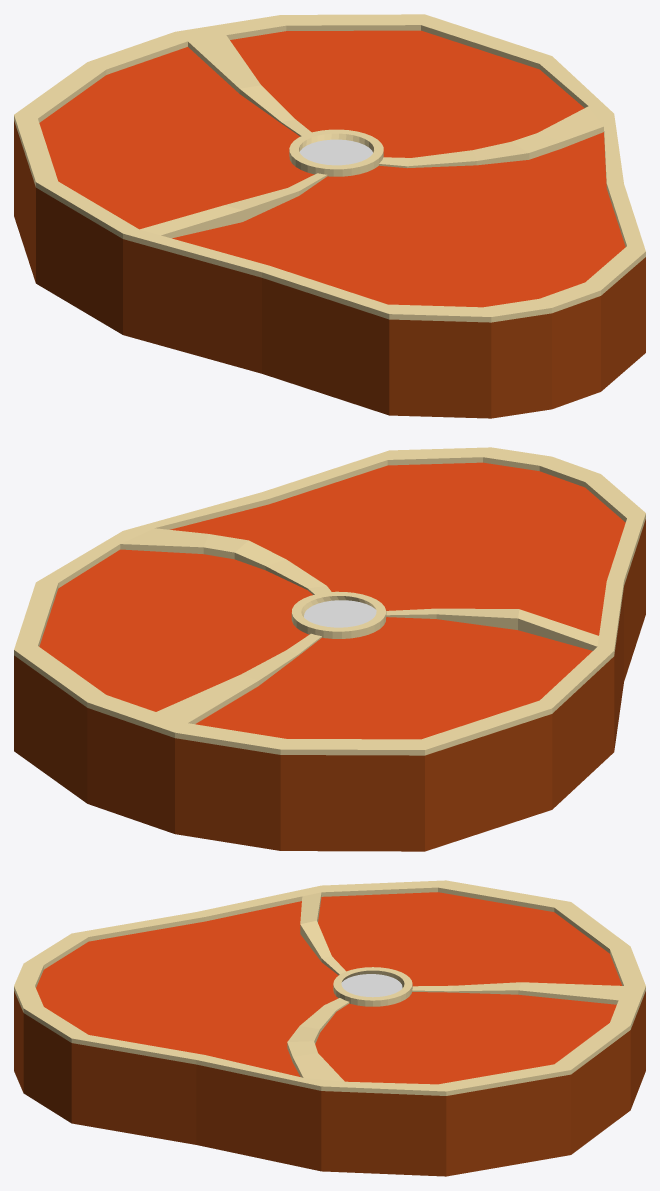
File: MeatOne.fbx
3 renders of one model, top to bottom at view 1: azimuth 30°, elevation 25°; view 2: azimuth 150°, elevation 25°; view 3: azimuth 270°, elevation 25°, orthographic. The views are drawn at different scales.
Visible parts, largest first — view 1: Plane, Plane.001; view 2: Plane, Plane.001; view 3: Plane, Plane.001.
Part boxes in pixels (box(x1,y1,x2,y2)): Plane: box(14, 30, 645, 418); Plane.001: box(14, 14, 645, 322); Plane: box(14, 462, 645, 851); Plane.001: box(14, 447, 645, 755); Plane: box(14, 892, 645, 1176); Plane.001: box(14, 880, 645, 1095).
Bounding box in the file's own units: 200 × 39.87 × 253.
